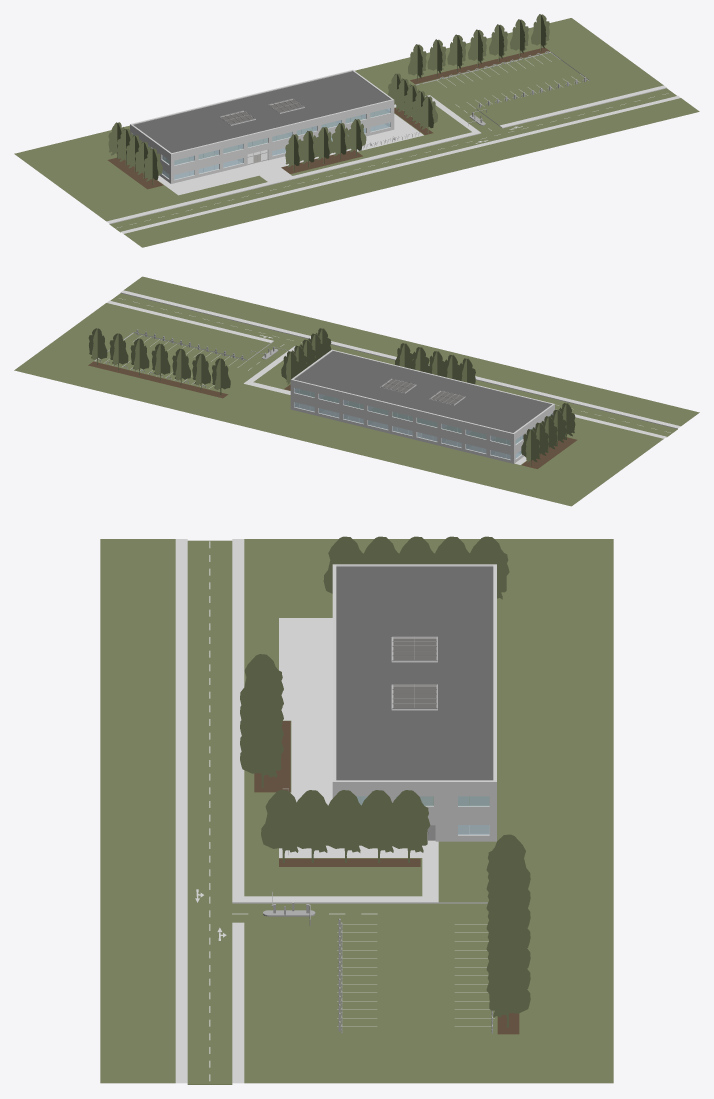
The picture shows the model from 3 angles, top to bottom: view 1: azimuth 30°, elevation 25°; view 2: azimuth 150°, elevation 25°; view 3: azimuth 270°, elevation 25°; orthographic projection. The views are drawn at different scales.
Parts seen in each view (by area): view 1: 3A8hY1UoD7JhnLeZeDyU4B, 3A8hY1UoD7JhnLeZeDyU2J, 0CWDnGbzX4Sf1BesT9Tj4o, 3A8hY1UoD7JhnLeZeDyUs3, 12bPoIwbv0tBGfPfnvCUc2, 3A8hY1UoD7JhnLeZeDyQc9, 3A8hY1UoD7JhnLeZeDyU2I, 0P898JVsX6VQGfAj0lC8$w, 12bPoIwbv0tBGfPfnvCUau, 0P898JVsX6VQGfAj0lC8w9, 0P898JVsX6VQGfAj0lC8zf, 0P898JVsX6VQGfAj0lC8wV (+12 smaller); view 2: 3A8hY1UoD7JhnLeZeDyU4B, 0CWDnGbzX4Sf1BesT9Tj4o, 3A8hY1UoD7JhnLeZeDyU2J, 12bPoIwbv0tBGfPfnvCUYu, 3A8hY1UoD7JhnLeZeDyUs3, 3A8hY1UoD7JhnLeZeDyU2I, 0P898JVsX6VQGfAj0lC8$w, 12bPoIwbv0tBGfPfnvCUau, 3A8hY1UoD7JhnLeZeDyQc9, 3A8hY1UoD7JhnLeZeDyQto, 0P898JVsX6VQGfAj0lC8zP, 0P898JVsX6VQGfAj0lC8yl (+7 smaller); view 3: 3A8hY1UoD7JhnLeZeDyU4B, 3A8hY1UoD7JhnLeZeDyU2J, 0CWDnGbzX4Sf1BesT9Tj4o, 3A8hY1UoD7JhnLeZeDyUs3, 12bPoIwbv0tBGfPfnvCUW2, 3A8hY1UoD7JhnLeZeDyQc9, 0P898JVsX6VQGfAj0lC8w9, 3A8hY1UoD7JhnLeZeDyQpf, 3A8hY1UoD7JhnLeZeDyQqa, 3A8hY1UoD7JhnLeZeDyQqC, 3A8hY1UoD7JhnLeZeDyQqq, 3A8hY1UoD7JhnLeZeDyQq4 (+9 smaller).
Boxes of the visible parts, left/top/right/bottom form: 3A8hY1UoD7JhnLeZeDyU4B: left=14, top=18, right=699, bottom=247; 3A8hY1UoD7JhnLeZeDyU2J: left=109, top=52, right=676, bottom=232; 0CWDnGbzX4Sf1BesT9Tj4o: left=133, top=71, right=390, bottom=152; 3A8hY1UoD7JhnLeZeDyUs3: left=106, top=85, right=680, bottom=233; 12bPoIwbv0tBGfPfnvCUc2: left=170, top=99, right=393, bottom=183; 3A8hY1UoD7JhnLeZeDyQc9: left=107, top=108, right=433, bottom=189; 3A8hY1UoD7JhnLeZeDyU2I: left=109, top=52, right=666, bottom=224; 0P898JVsX6VQGfAj0lC8$w: left=410, top=47, right=549, bottom=84; 12bPoIwbv0tBGfPfnvCUau: left=130, top=124, right=170, bottom=183; 0P898JVsX6VQGfAj0lC8w9: left=531, top=14, right=549, bottom=54; 0P898JVsX6VQGfAj0lC8zf: left=489, top=24, right=507, bottom=64; 0P898JVsX6VQGfAj0lC8wV: left=510, top=19, right=528, bottom=59; 3A8hY1UoD7JhnLeZeDyU4B: left=14, top=276, right=699, bottom=506; 0CWDnGbzX4Sf1BesT9Tj4o: left=294, top=351, right=551, bottom=432; 3A8hY1UoD7JhnLeZeDyU2J: left=95, top=293, right=677, bottom=436; 12bPoIwbv0tBGfPfnvCUYu: left=290, top=379, right=513, bottom=463; 3A8hY1UoD7JhnLeZeDyUs3: left=106, top=290, right=680, bottom=464; 3A8hY1UoD7JhnLeZeDyU2I: left=94, top=292, right=677, bottom=437; 0P898JVsX6VQGfAj0lC8$w: left=88, top=361, right=228, bottom=398; 12bPoIwbv0tBGfPfnvCUau: left=513, top=404, right=554, bottom=463; 3A8hY1UoD7JhnLeZeDyQc9: left=284, top=384, right=576, bottom=468; 3A8hY1UoD7JhnLeZeDyQto: left=521, top=429, right=539, bottom=465; 0P898JVsX6VQGfAj0lC8zP: left=192, top=353, right=210, bottom=390; 0P898JVsX6VQGfAj0lC8yl: left=212, top=358, right=230, bottom=394; 3A8hY1UoD7JhnLeZeDyU4B: left=100, top=539, right=613, bottom=1083; 3A8hY1UoD7JhnLeZeDyU2J: left=187, top=540, right=494, bottom=1084; 0CWDnGbzX4Sf1BesT9Tj4o: left=336, top=567, right=493, bottom=780; 3A8hY1UoD7JhnLeZeDyUs3: left=175, top=539, right=438, bottom=1083; 12bPoIwbv0tBGfPfnvCUW2: left=332, top=781, right=494, bottom=841; 3A8hY1UoD7JhnLeZeDyQc9: left=254, top=721, right=420, bottom=866; 0P898JVsX6VQGfAj0lC8w9: left=486, top=954, right=530, bottom=1029; 3A8hY1UoD7JhnLeZeDyQpf: left=240, top=715, right=283, bottom=787; 3A8hY1UoD7JhnLeZeDyQqa: left=261, top=790, right=304, bottom=862; 3A8hY1UoD7JhnLeZeDyQqC: left=356, top=790, right=400, bottom=862; 3A8hY1UoD7JhnLeZeDyQqq: left=323, top=790, right=366, bottom=862; 3A8hY1UoD7JhnLeZeDyQq4: left=386, top=790, right=430, bottom=862.
Size of the model in its own units: 159 by 13.82 by 63.53.
